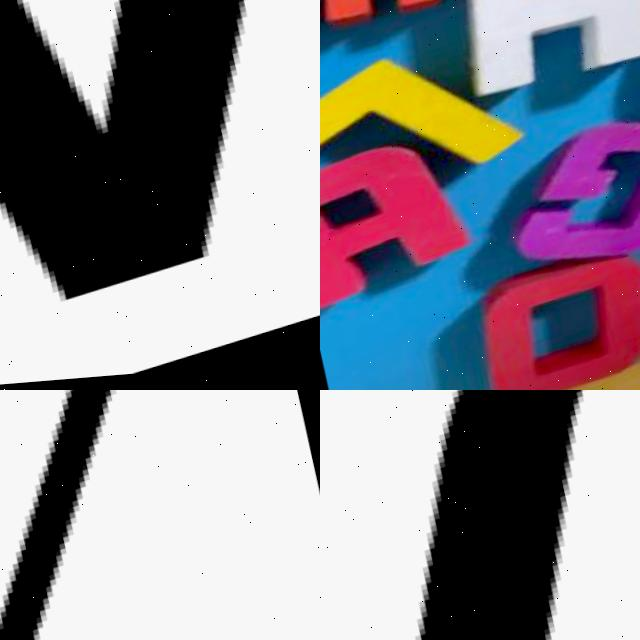7: (0, 390, 255, 640)
A: (0, 0, 320, 376)
G: (497, 93, 640, 284)
H: (432, 0, 640, 119)
J: (320, 390, 640, 640)
L: (320, 27, 523, 223)
O: (468, 248, 640, 390)
W: (320, 0, 464, 50)
